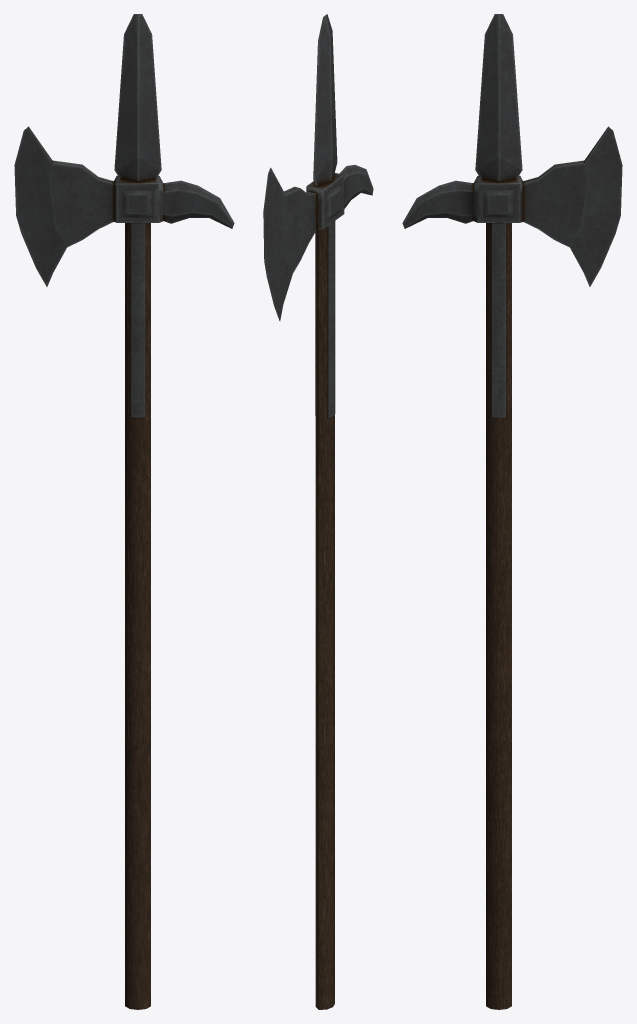
Rendered from halberd.glb.
3 views of the same model, side by side, from view 1: azimuth 90°, elevation 25°; view 2: azimuth 150°, elevation 25°; view 3: azimuth 270°, elevation 25° (orthographic).
Visible parts, largest first — view 1: halberd; view 2: halberd; view 3: halberd.
Part boxes in pixels (left/top/right/bottom): halberd: left=14, top=14, right=234, bottom=1009; halberd: left=263, top=14, right=373, bottom=1009; halberd: left=402, top=14, right=622, bottom=1009.
Bounding box in the file's own units: 0.0761 × 3.52 × 0.708.
Materials: 1 (1 with a texture image).
